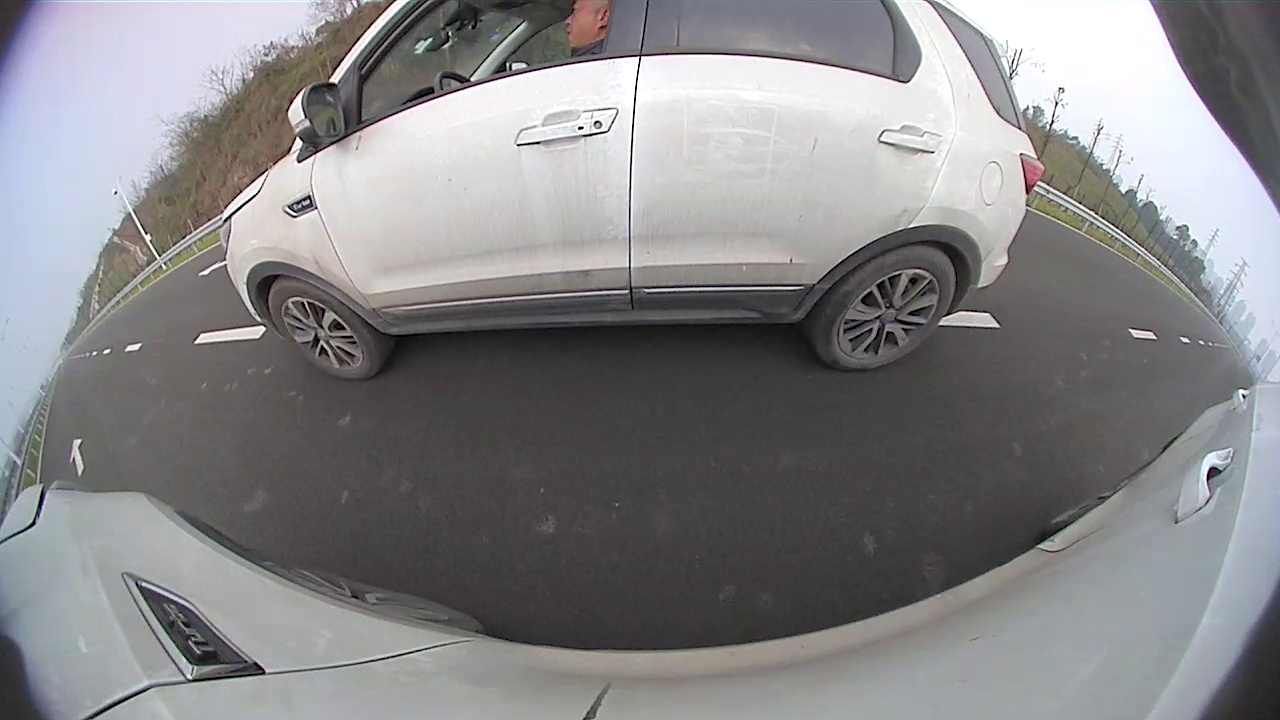car: (219, 1, 1046, 382)
front: (268, 281, 383, 377)
rear: (821, 246, 955, 371)
